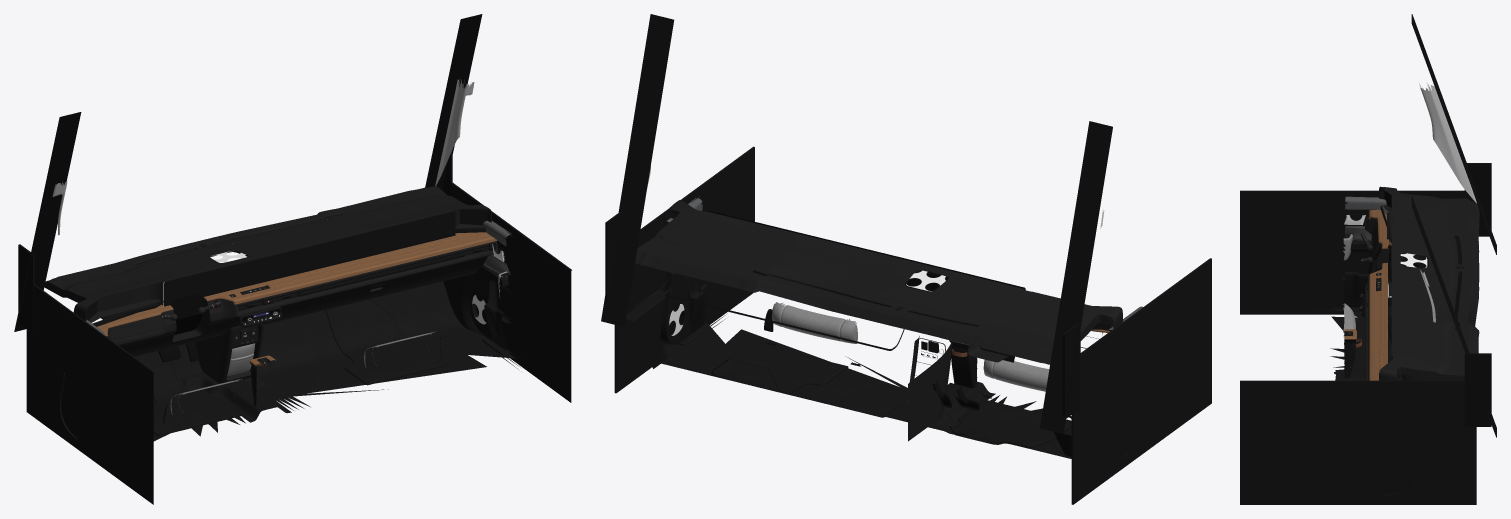
Rendered from cockpit_front.gltf.
The picture shows the model from 3 angles, left to right: view 1: azimuth 30°, elevation 25°; view 2: azimuth 150°, elevation 25°; view 3: azimuth 270°, elevation 25°; orthographic projection. The views are drawn at different scales.
Visible parts, largest first — view 1: Cockpit_Plastic45_FrontL, Cockpit_InteriorFloor_FrontR, Cockpit_Plastic45_FrontR, Cockpit_DashPatternPlastic_FrontL, Cockpit_DashPatternPlastic_FrontR, Cockpit_DashPatternPlastic_FrontC, Cockpit_InteriorFloor_FrontC, Cockpit_InteriorFloor_FrontL, Cockpit_Screen_Centre, Cockpit_WindowsBlackSticker_FrontL, Cockpit_WindowsBlackSticker_FrontR, Cockpit_InteriorWood_FrontR (+9 smaller); view 2: Cockpit_Plastic45_FrontL, Cockpit_DashPatternPlastic_FrontR, Cockpit_Plastic45_FrontR, Cockpit_DashPatternPlastic_FrontC, Cockpit_DashPatternPlastic_FrontL, Cockpit_InteriorFloor_FrontR, Cockpit_WindowsBlackSticker_FrontL, Cockpit_WindowsBlackSticker_FrontR, Cockpit_InteriorFloor_FrontL, Cockpit_InteriorFloor_FrontC, Cockpit_WhiteClothCouches_FrontR, Cockpit_WhiteClothCouches_FrontL (+2 smaller); view 3: Cockpit_Plastic45_FrontR, Cockpit_Plastic45_FrontL, Cockpit_DashPatternPlastic_FrontR, Cockpit_DashPatternPlastic_FrontL, Cockpit_DashPatternPlastic_FrontC, Cockpit_WindowsBlackSticker_FrontR, Cockpit_WindowsBlackSticker_FrontL, Cockpit_WhitePlastic_FrontL, Cockpit_InteriorWood_FrontR, Cockpit_InteriorWood_FrontC, Cockpit_InteriorFloor_FrontL, Cockpit_GrayClothCouches_FrontL (+4 smaller).
Part boxes in pixels (x1=…): Cockpit_Plastic45_FrontL: x1=26, y1=250, x2=239, y2=504; Cockpit_InteriorFloor_FrontR: x1=263, y1=281, x2=515, y2=393; Cockpit_Plastic45_FrontR: x1=308, y1=182, x2=571, y2=402; Cockpit_DashPatternPlastic_FrontL: x1=40, y1=245, x2=240, y2=356; Cockpit_DashPatternPlastic_FrontR: x1=258, y1=186, x2=498, y2=316; Cockpit_DashPatternPlastic_FrontC: x1=184, y1=215, x2=382, y2=383; Cockpit_InteriorFloor_FrontC: x1=197, y1=314, x2=388, y2=418; Cockpit_InteriorFloor_FrontL: x1=134, y1=344, x2=256, y2=441; Cockpit_Screen_Centre: x1=211, y1=213, x2=453, y2=293; Cockpit_WindowsBlackSticker_FrontL: x1=14, y1=112, x2=81, y2=332; Cockpit_WindowsBlackSticker_FrontR: x1=425, y1=14, x2=482, y2=195; Cockpit_InteriorWood_FrontR: x1=296, y1=232, x2=496, y2=286; Cockpit_Plastic45_FrontL: x1=916, y1=258, x2=1211, y2=504; Cockpit_DashPatternPlastic_FrontR: x1=633, y1=200, x2=875, y2=343; Cockpit_Plastic45_FrontR: x1=614, y1=146, x2=860, y2=393; Cockpit_DashPatternPlastic_FrontC: x1=764, y1=238, x2=954, y2=441; Cockpit_DashPatternPlastic_FrontL: x1=903, y1=272, x2=1122, y2=364; Cockpit_InteriorFloor_FrontR: x1=657, y1=322, x2=900, y2=411; Cockpit_WindowsBlackSticker_FrontL: x1=1040, y1=121, x2=1112, y2=433; Cockpit_WindowsBlackSticker_FrontR: x1=601, y1=14, x2=674, y2=326; Cockpit_InteriorFloor_FrontL: x1=928, y1=391, x2=1071, y2=458; Cockpit_InteriorFloor_FrontC: x1=790, y1=356, x2=987, y2=426; Cockpit_WhiteClothCouches_FrontR: x1=772, y1=302, x2=857, y2=343; Cockpit_WhiteClothCouches_FrontL: x1=983, y1=359, x2=1049, y2=391; Cockpit_Plastic45_FrontR: x1=1240, y1=327, x2=1476, y2=504; Cockpit_Plastic45_FrontL: x1=1240, y1=190, x2=1476, y2=314; Cockpit_DashPatternPlastic_FrontR: x1=1365, y1=283, x2=1479, y2=380; Cockpit_DashPatternPlastic_FrontL: x1=1364, y1=186, x2=1479, y2=295; Cockpit_DashPatternPlastic_FrontC: x1=1365, y1=251, x2=1479, y2=380; Cockpit_WindowsBlackSticker_FrontR: x1=1411, y1=197, x2=1496, y2=437; Cockpit_WindowsBlackSticker_FrontL: x1=1411, y1=14, x2=1496, y2=254; Cockpit_WhitePlastic_FrontL: x1=1419, y1=83, x2=1476, y2=203; Cockpit_InteriorWood_FrontR: x1=1368, y1=304, x2=1387, y2=380; Cockpit_InteriorWood_FrontC: x1=1344, y1=273, x2=1387, y2=339; Cockpit_InteriorFloor_FrontL: x1=1330, y1=294, x2=1459, y2=374; Cockpit_GrayClothCouches_FrontL: x1=1345, y1=196, x2=1390, y2=241.
Bounding box in the file's own units: 2.27 × 1.65 × 1.28.
19 materials, 7 textured.
